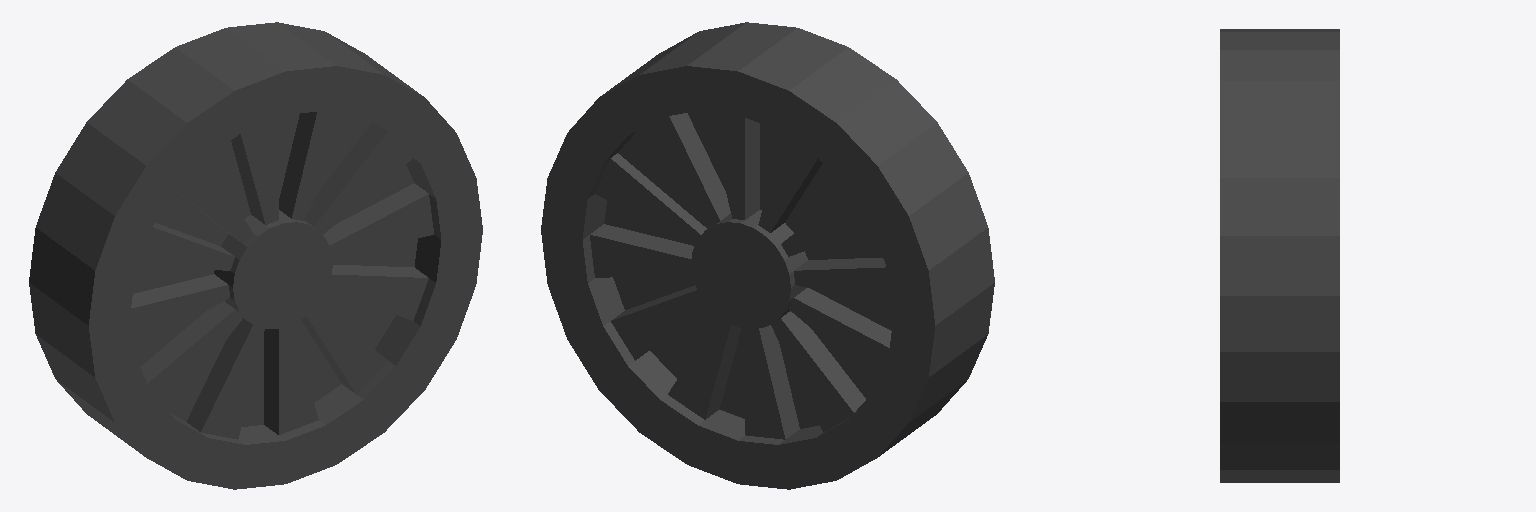
File: gvrbot_wheel.obj
The picture shows the model from 3 angles: view 1: azimuth 30°, elevation 25°; view 2: azimuth 150°, elevation 25°; view 3: azimuth 270°, elevation 25°; orthographic projection.
Parts seen in each view (by area): view 1: Mesh1 Component_1_1 Model; view 2: Mesh1 Component_1_1 Model; view 3: Mesh1 Component_1_1 Model.
Part boxes in pixels (x1,y1,x2,y2): Mesh1 Component_1_1 Model: (29, 22, 482, 489); Mesh1 Component_1_1 Model: (541, 22, 994, 489); Mesh1 Component_1_1 Model: (1220, 29, 1339, 482).
Bounding box in the file's own units: 15.74 × 15.74 × 4.13.